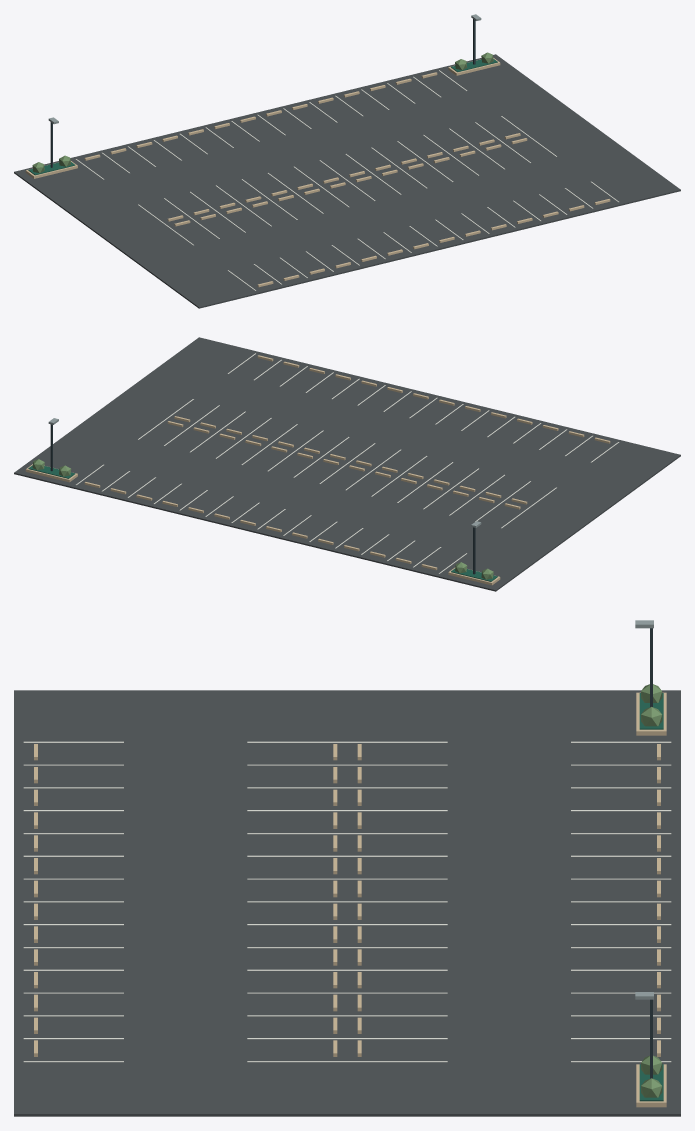
File: parking_large.glb
3 views of the same model, one above another, from view 1: azimuth 30°, elevation 25°; view 2: azimuth 150°, elevation 25°; view 3: azimuth 270°, elevation 25° (orthographic). The views are drawn at different scales.
Visible parts, largest first — view 1: parking_large; view 2: parking_large; view 3: parking_large.
Part boxes in pixels (x1,y1,x2,y2): parking_large: (14, 14, 680, 308); parking_large: (14, 337, 680, 591); parking_large: (14, 620, 680, 1116).
Bounding box in the file's own units: 51.1 × 5.42 × 34.
